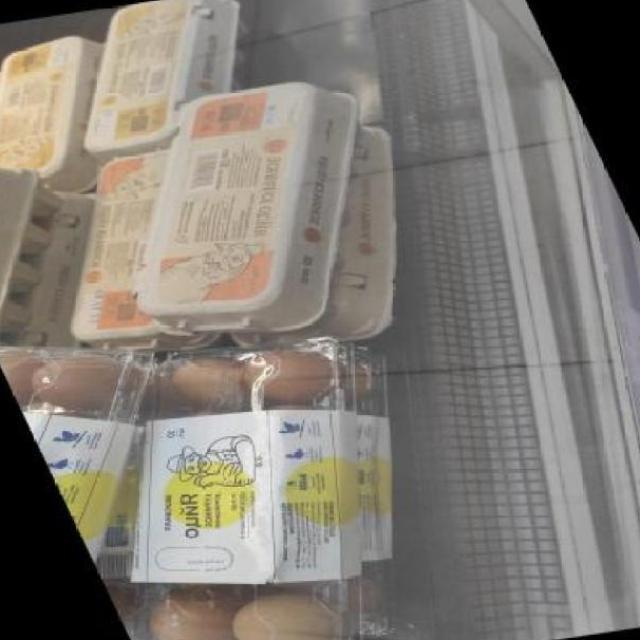Egg: (42, 65, 456, 345)
